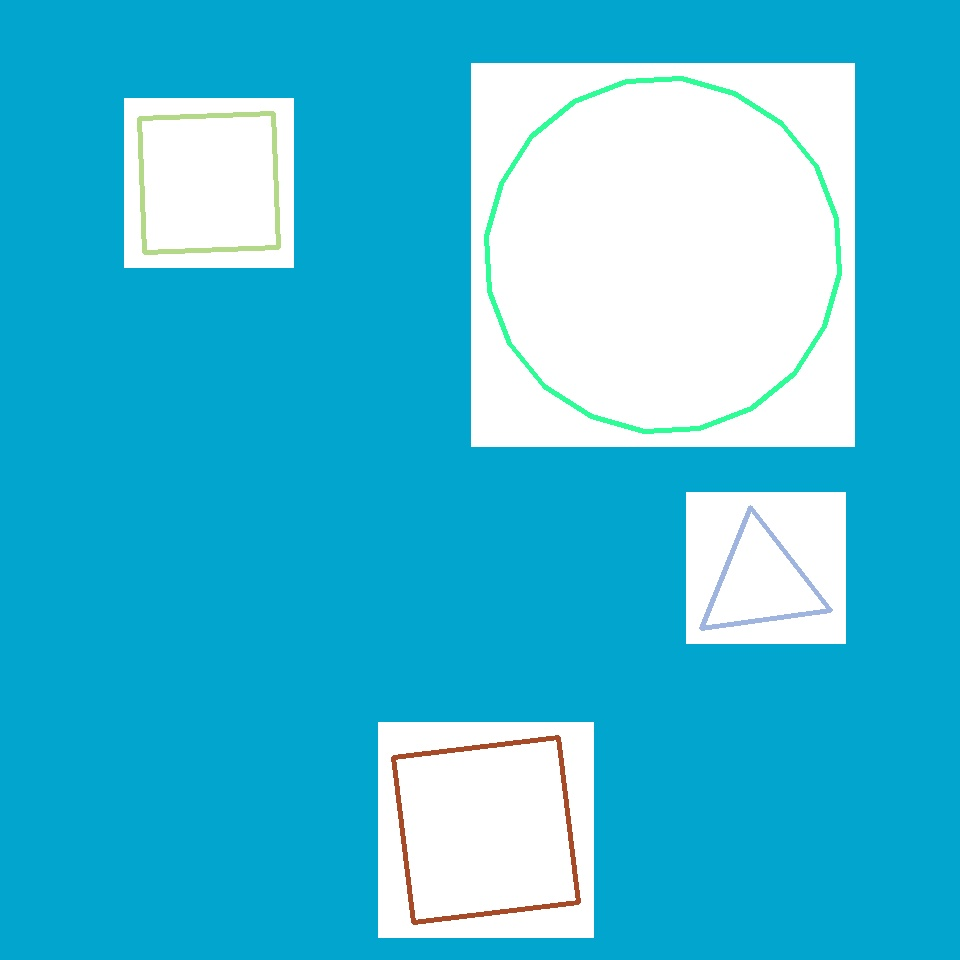circle: (550, 52, 834, 340), (533, 744, 659, 880), (696, 522, 826, 642)
square: (534, 52, 862, 380), (393, 738, 578, 922), (810, 668, 950, 808), (140, 113, 278, 252)
triangle: (8, 462, 384, 839), (487, 78, 840, 432), (636, 682, 896, 940)
